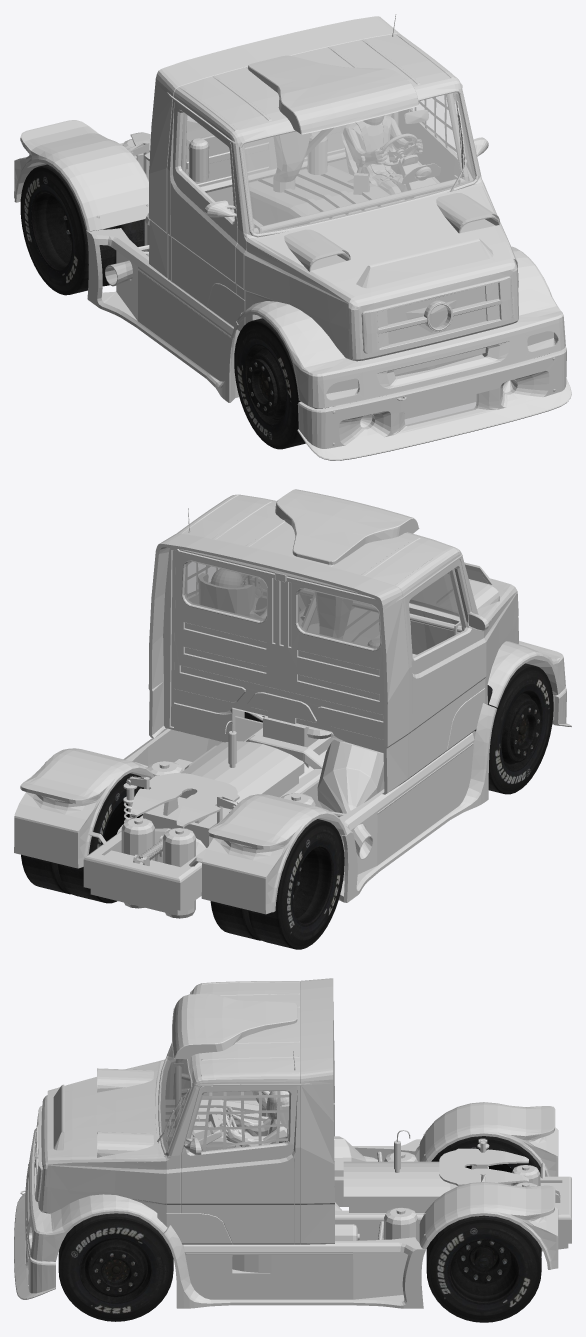
3 views of the same model, one above another, from view 1: azimuth 30°, elevation 25°; view 2: azimuth 150°, elevation 25°; view 3: azimuth 270°, elevation 25° (orthographic). The views are drawn at different scales.
Bounding box in the file's own units: 1.27 × 1.29 × 2.5.
5 materials, 3 textured.
